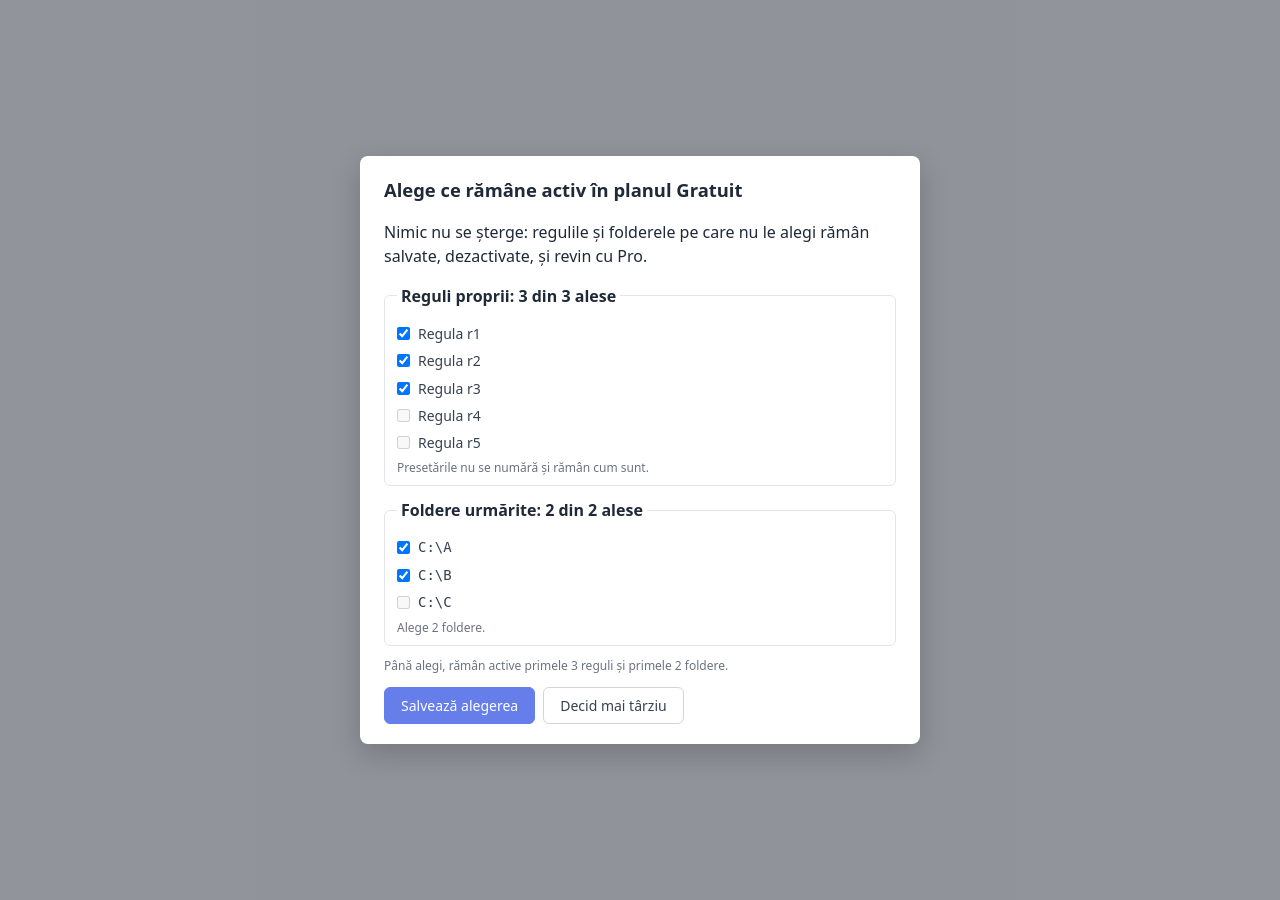
Test: PlanChoiceDialog › shows a backend refusal and stays open
This screenshot has width=1280, height=900.
Expected: the checkbox with test id "plan-choice-rule-r1" is shown, [397,327,410,340]
Click the button with test id "plan-choice-save": click(460, 706) [384,687,535,724]
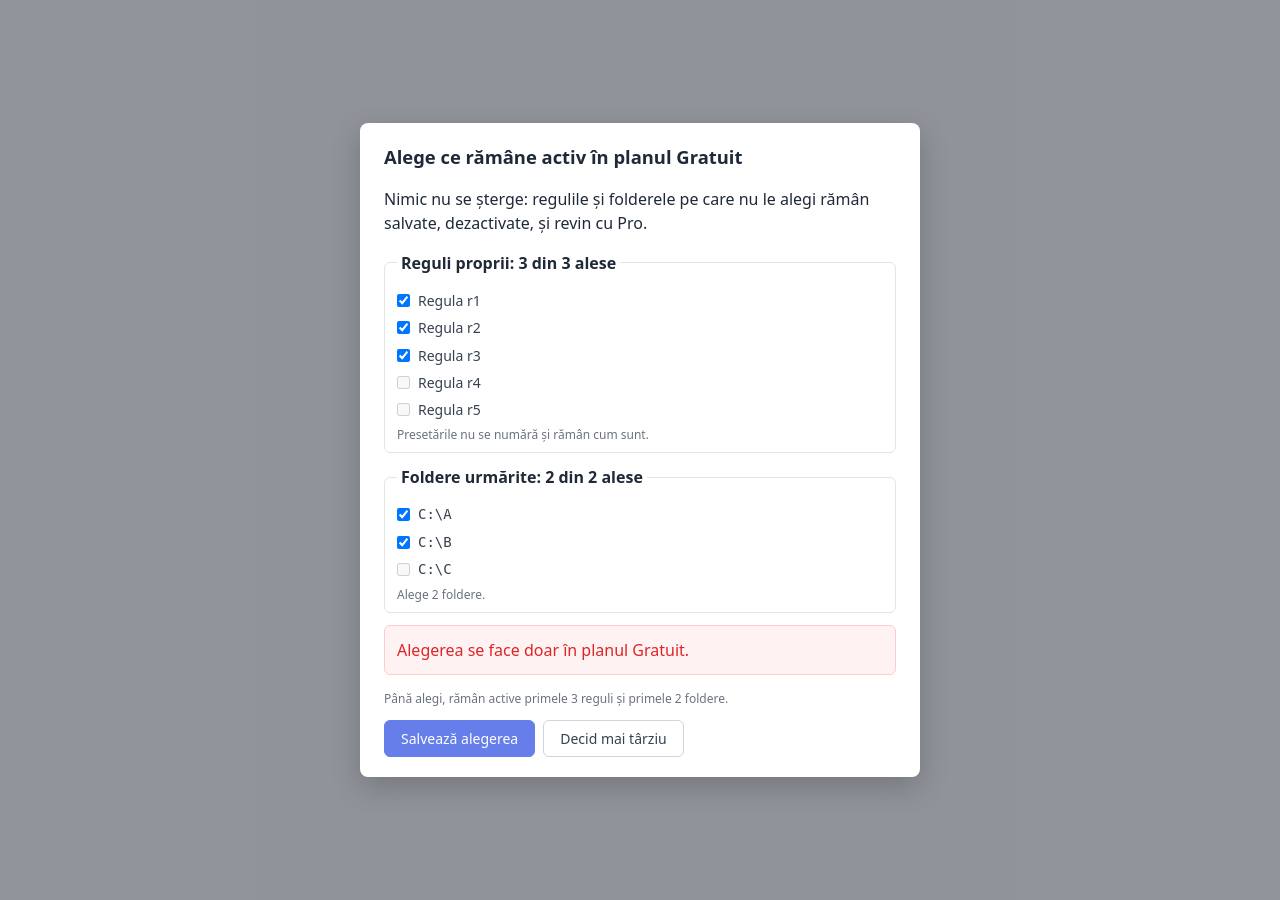
Expected: the message reads "Alegerea se face doar în planul Gratuit.", [397,639,689,661]
